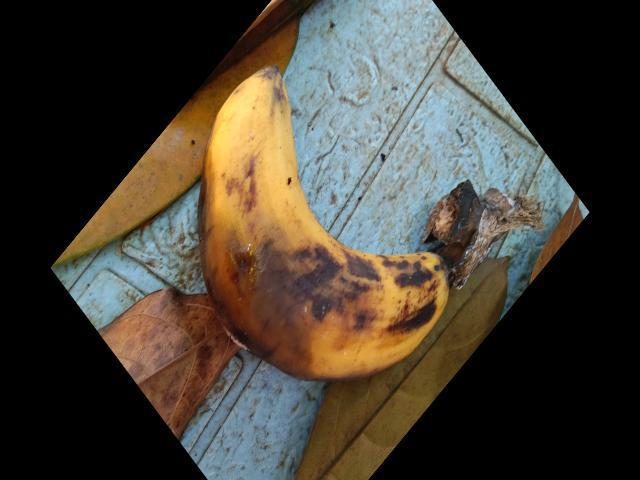rotten: (193, 66, 440, 414)
